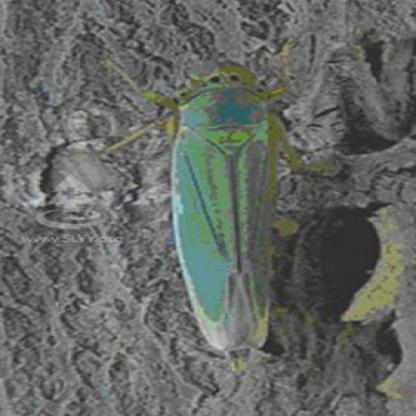Green-Leafhopper: (109, 47, 346, 362)
